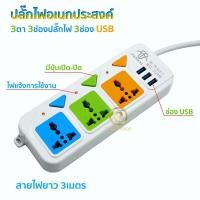Three_eye_plug: (14, 42, 177, 172)
